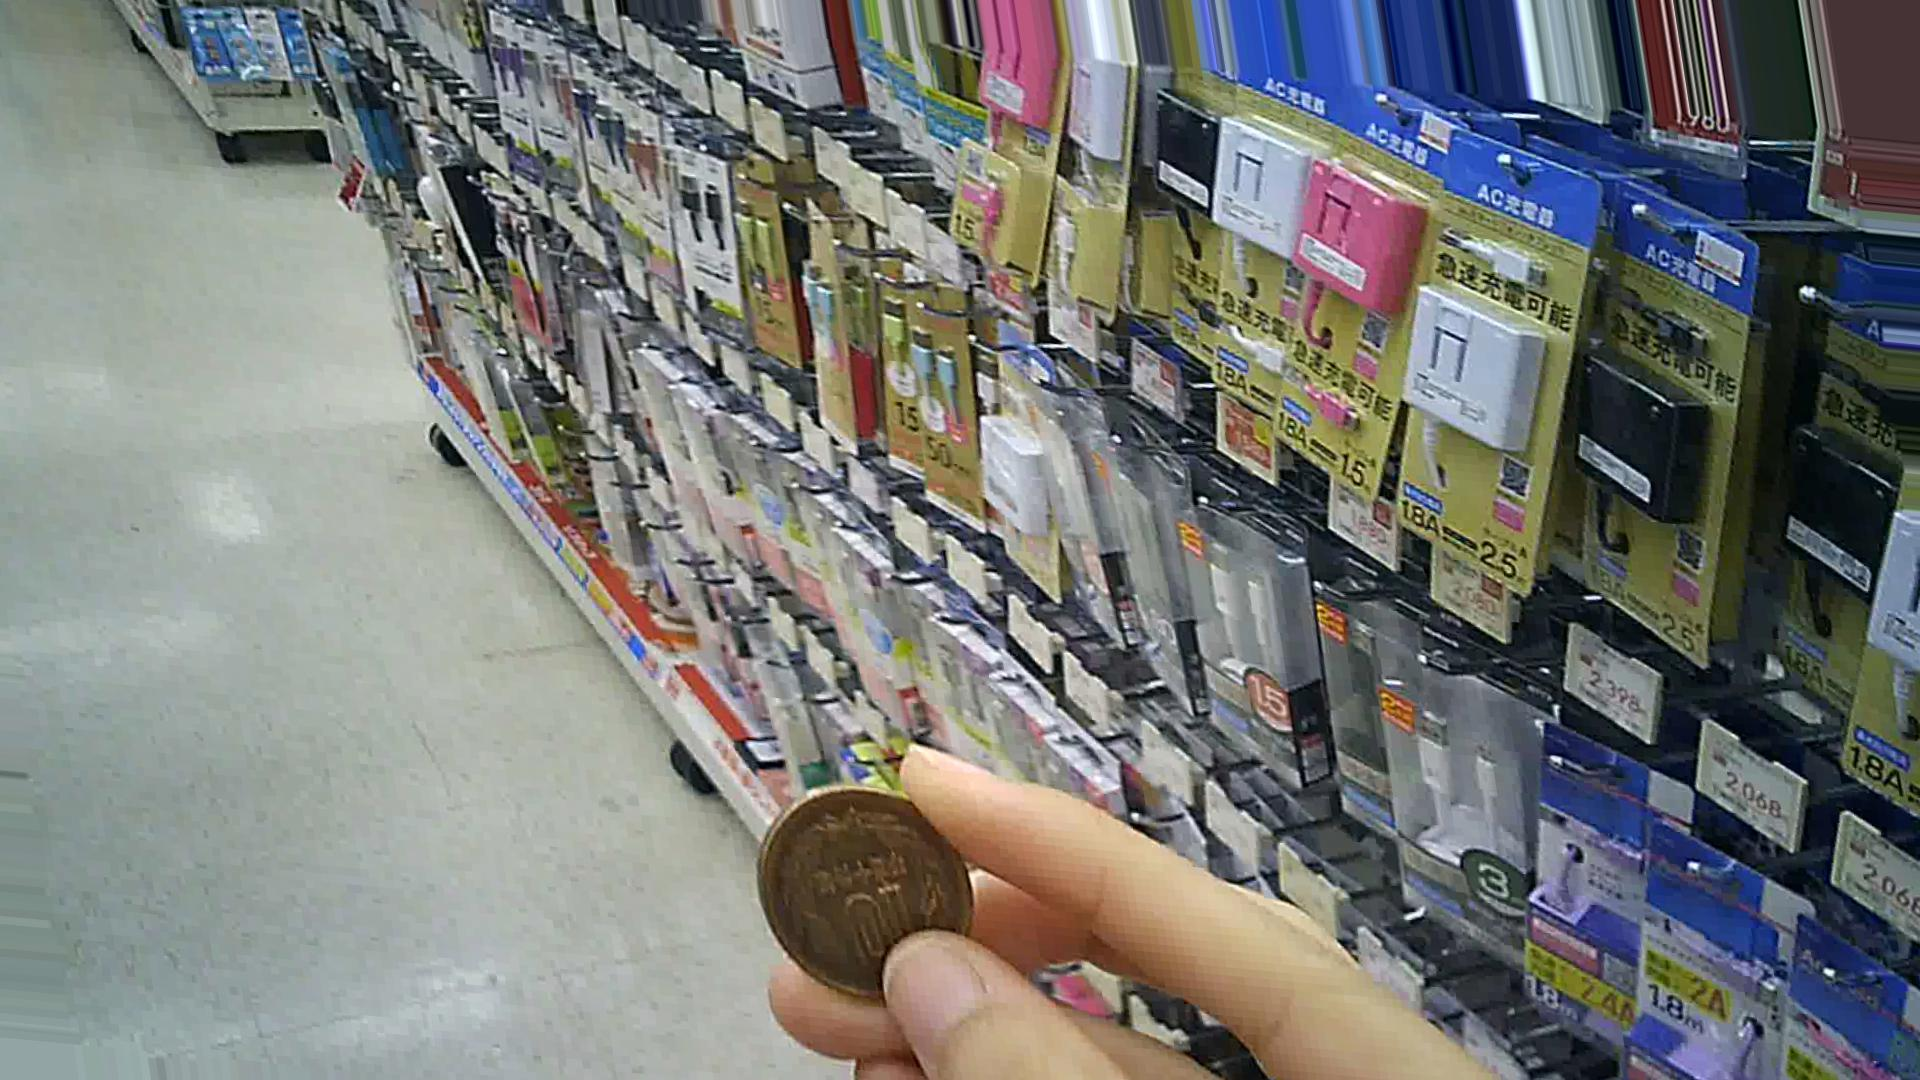10 Yen: (746, 785, 992, 1004)
